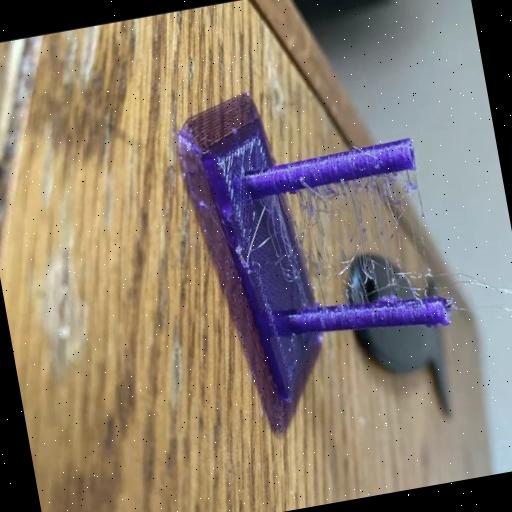stringing: (300, 164, 424, 238), (336, 243, 424, 307)
